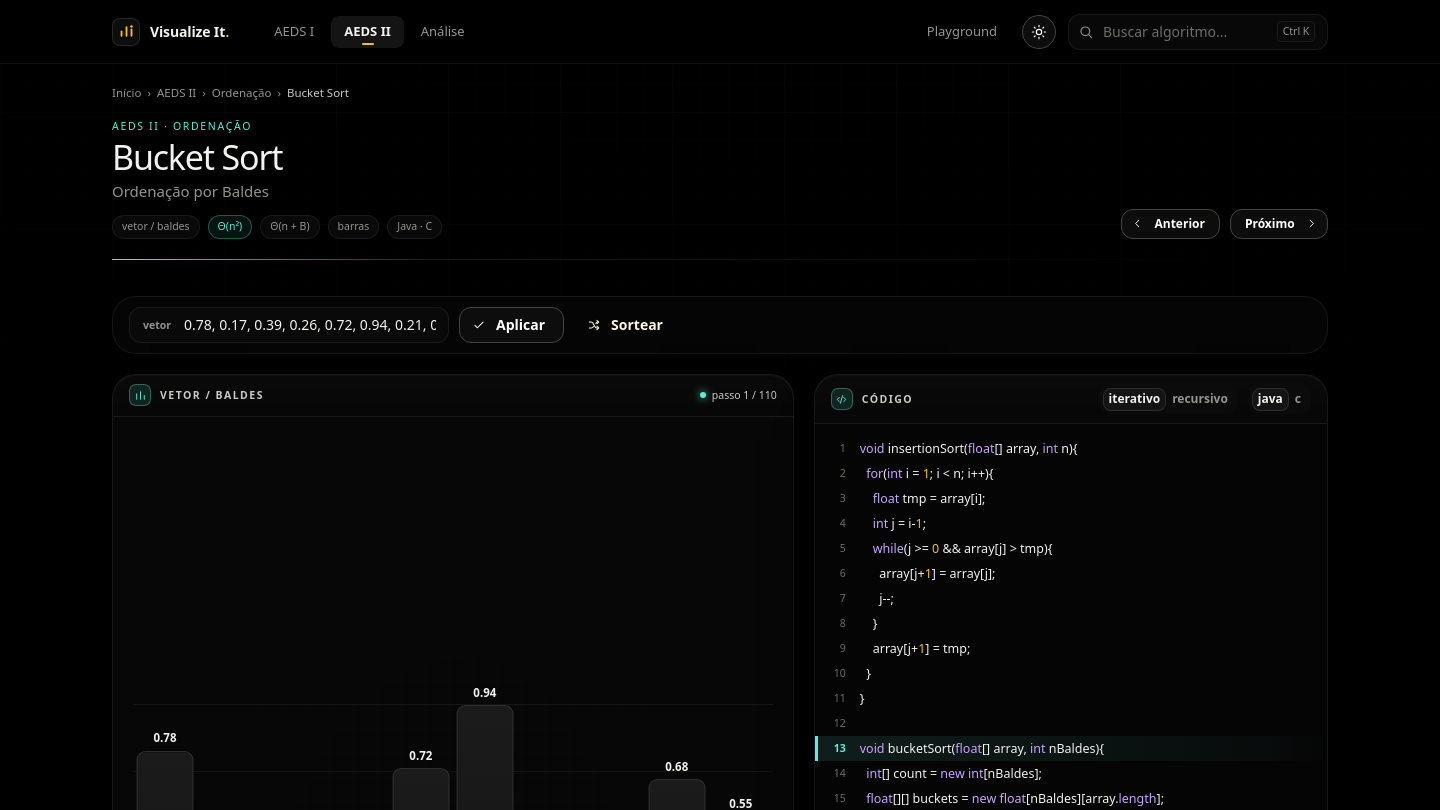
Test: App › switches bucket between iterative and recursive listings
Click the text "recursivo": {"x": 1200, "y": 398} [1172,390,1228,407]
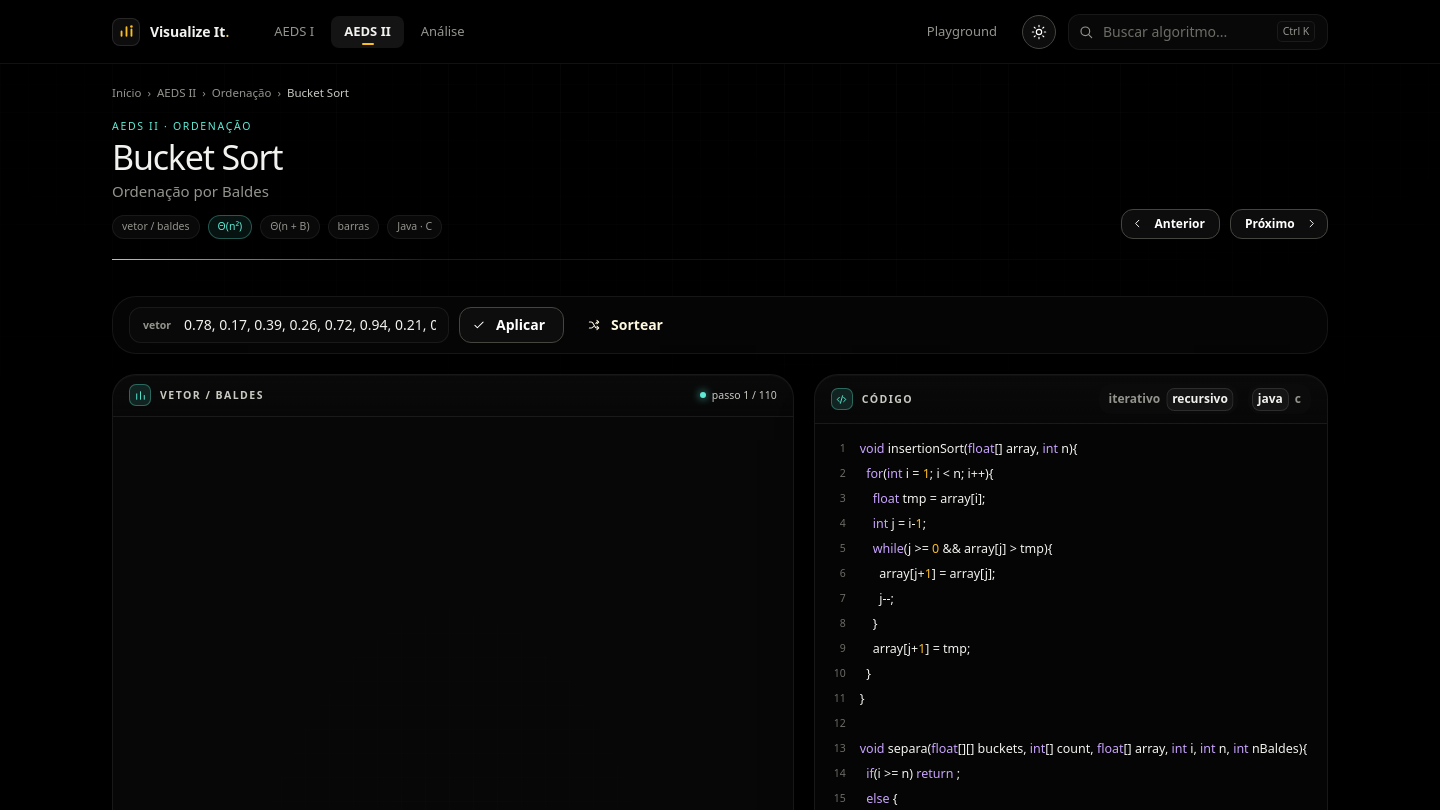
Click the text "c": {"x": 1298, "y": 398} [1295,390,1301,407]
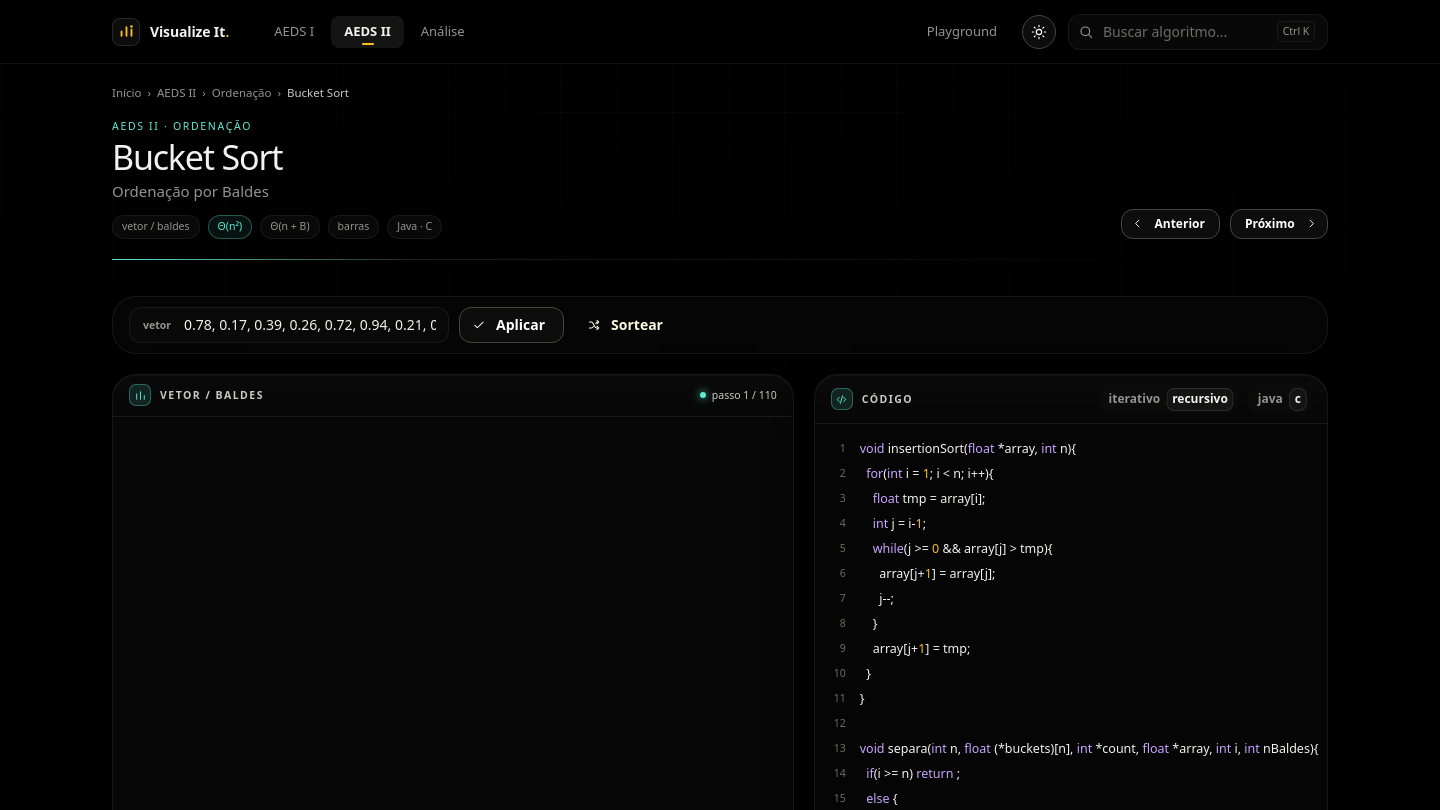
Expected: the text "void separa(int n, float (*buckets)[n]" is shown, [860,736,1318,762]
